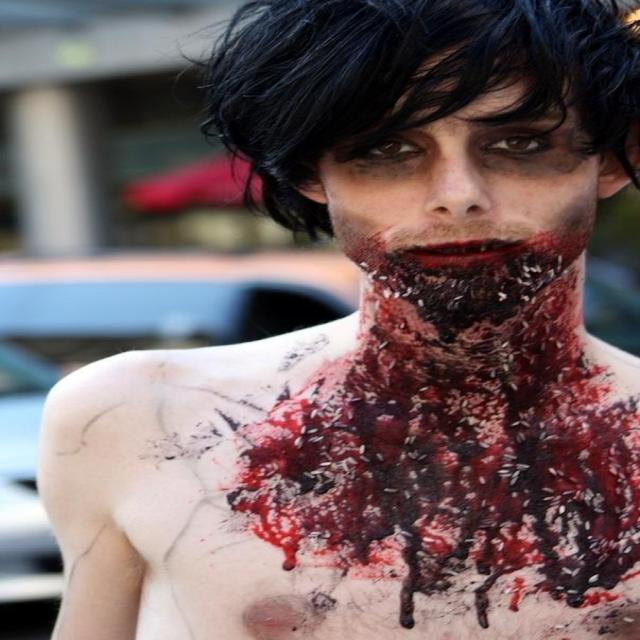flood: (340, 367, 615, 614)
